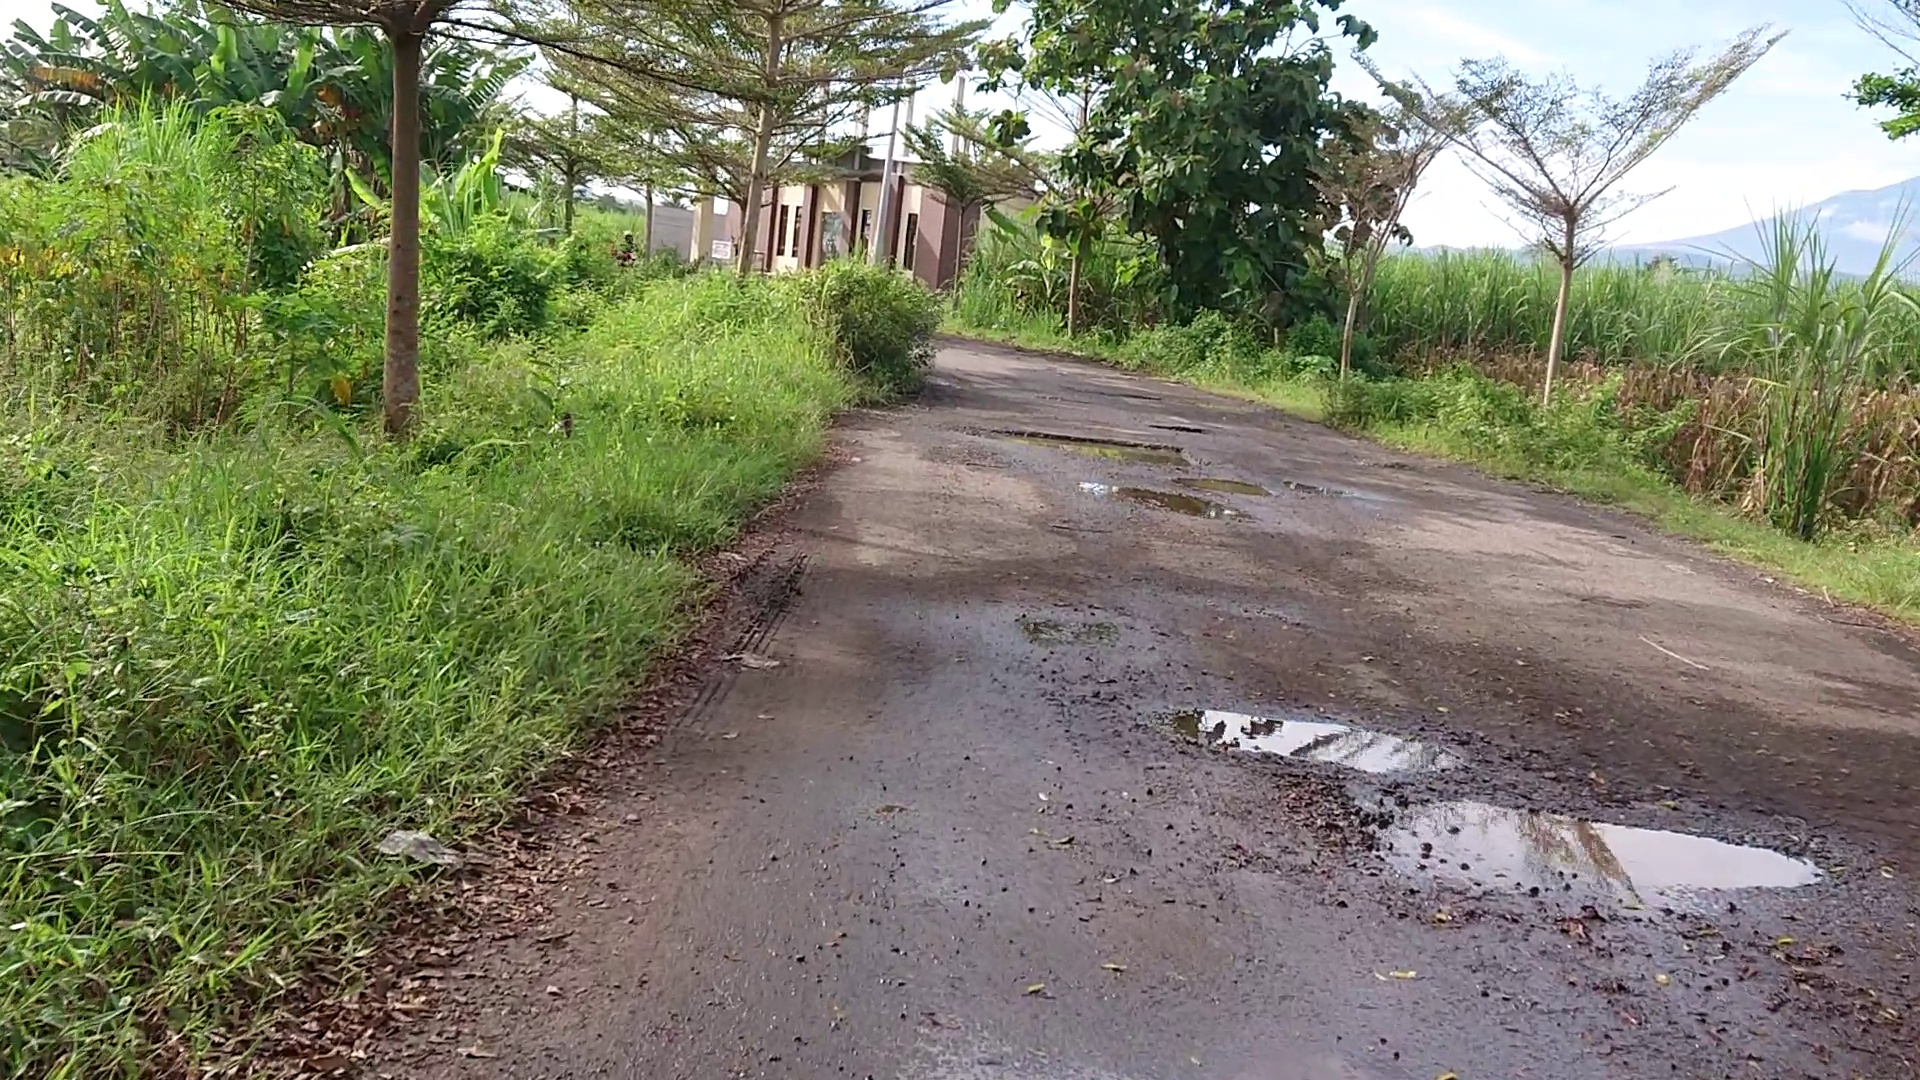Berlubang: (1394, 814, 1797, 894), (1006, 425, 1308, 526), (1179, 712, 1443, 773)
